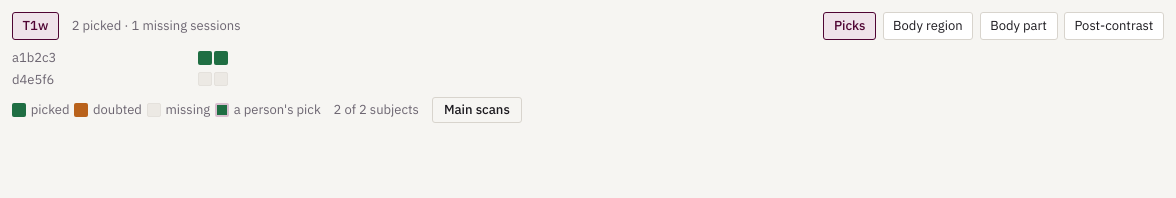
Scenario: the heatmap with a layer › keeps the pages shown and says the error inline when a reading again fails, with or without More used
Click the button "Body region": (928, 26) [882, 12, 973, 40]
Wait 15000 ms
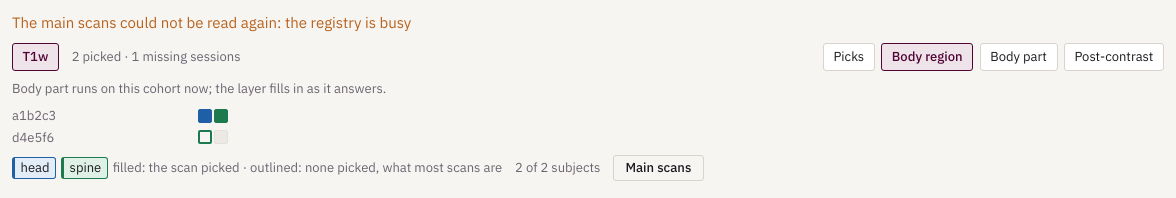
Check: the number of list items with class "heat-row" is 2, box [12, 107, 228, 124]; [12, 128, 228, 146]
Check: the text "The main scans could not be read again: the registry is busy" is shown, box [12, 13, 411, 32]
